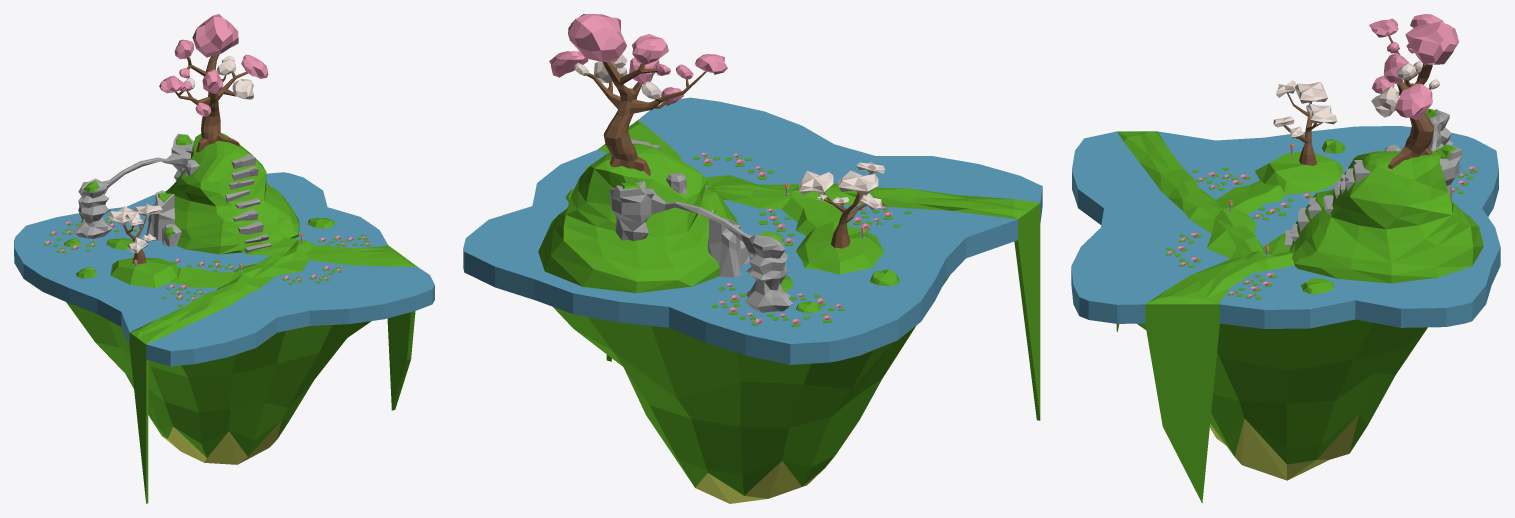
The model's file is Island_17.fbx.
The picture shows the model from 3 angles, left to right: view 1: azimuth 30°, elevation 25°; view 2: azimuth 150°, elevation 25°; view 3: azimuth 270°, elevation 25°; orthographic projection. The views are drawn at different scales.
Parts seen in each view (by area): view 1: Islands_17_Base, Islands_17_Tree_2, Islands_17_Tree_1; view 2: Islands_17_Base, Islands_17_Tree_2, Islands_17_Tree_1; view 3: Islands_17_Base, Islands_17_Tree_2, Islands_17_Tree_1.
Boxes of the visible parts, box(x1,y1,x2,y2) form: Islands_17_Base: box(14, 133, 434, 503); Islands_17_Tree_2: box(159, 14, 268, 152); Islands_17_Tree_1: box(108, 203, 162, 263); Islands_17_Base: box(463, 97, 1042, 503); Islands_17_Tree_2: box(549, 14, 727, 175); Islands_17_Tree_1: box(799, 161, 884, 248); Islands_17_Base: box(1071, 108, 1500, 503); Islands_17_Tree_2: box(1369, 14, 1459, 168); Islands_17_Tree_1: box(1273, 80, 1337, 165).
Bounding box in the file's own units: 2129 × 2097 × 2586.
